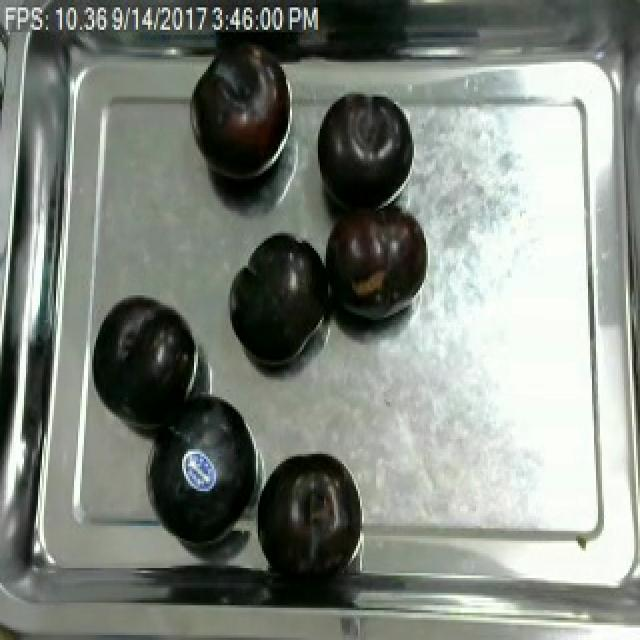Fruit: (142, 384, 266, 546), (182, 45, 300, 196), (84, 290, 204, 434), (220, 226, 334, 372), (254, 444, 364, 580), (308, 84, 418, 218), (322, 191, 428, 327)
